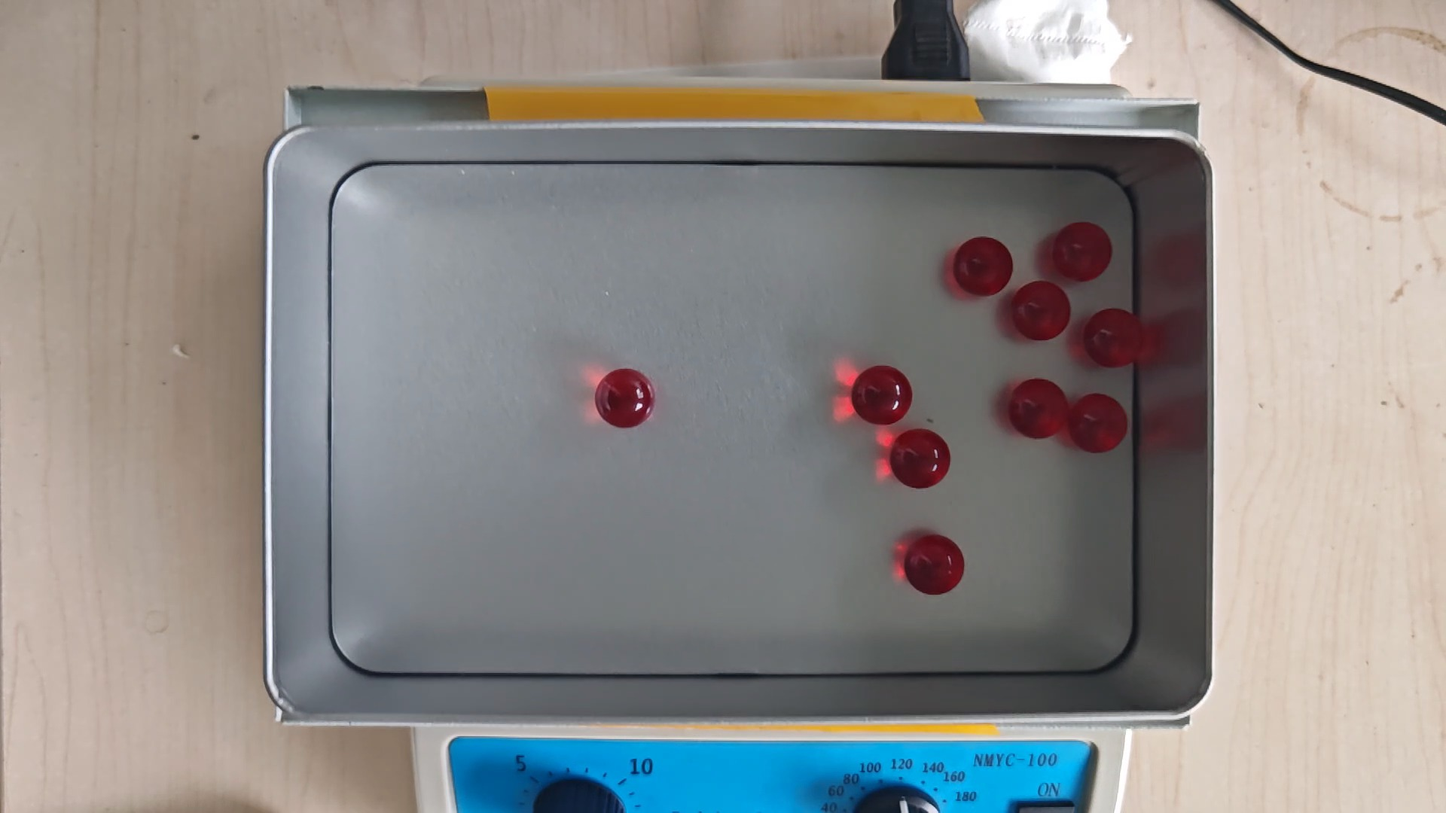ball: (904, 533, 966, 596), (890, 428, 951, 490), (1052, 222, 1113, 283), (1068, 393, 1129, 454), (1084, 307, 1144, 369), (852, 364, 912, 426), (595, 367, 655, 429), (1009, 378, 1069, 439), (954, 235, 1013, 296), (1012, 281, 1070, 343)
container: (329, 163, 1135, 675)
